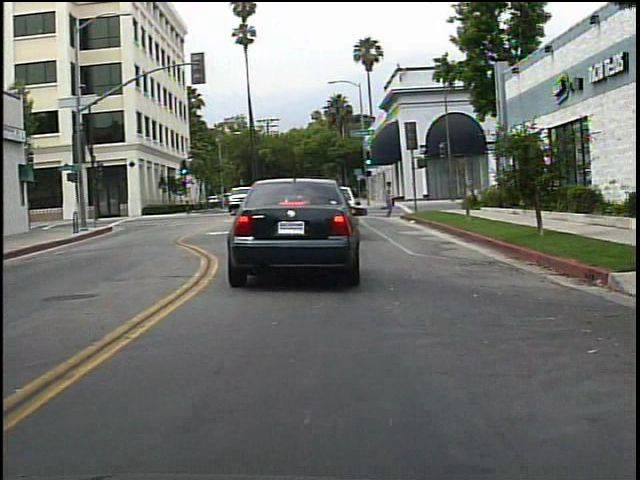person: (372, 176, 398, 220)
